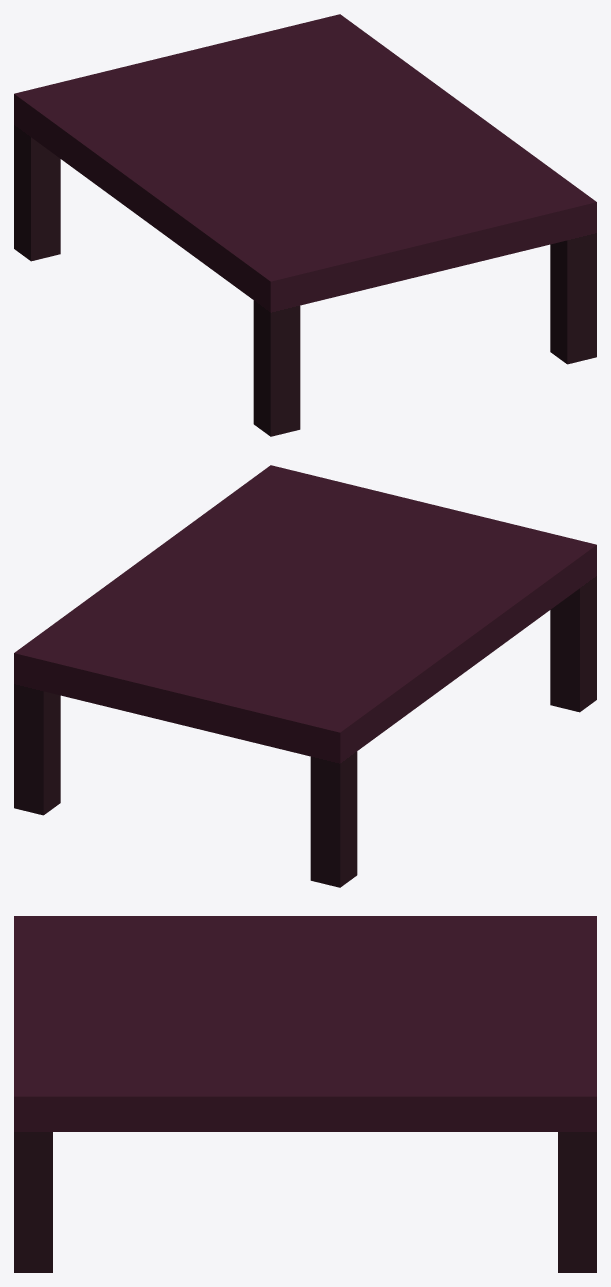
The model's file is endroom_miz.dae.
3 views of the same model, one above another, from view 1: azimuth 30°, elevation 25°; view 2: azimuth 150°, elevation 25°; view 3: azimuth 270°, elevation 25° (orthographic). The views are drawn at different scales.
Visible parts, largest first — view 1: endroom_miz.miz_ending1; view 2: endroom_miz.miz_ending1; view 3: endroom_miz.miz_ending1.
Part boxes in pixels (left/top/right/bottom): endroom_miz.miz_ending1: left=14, top=14, right=596, bottom=436; endroom_miz.miz_ending1: left=14, top=465, right=596, bottom=887; endroom_miz.miz_ending1: left=14, top=916, right=596, bottom=1272.
Bounding box in the file's own units: 1.1 × 1.5 × 0.5.
1 material, 1 textured.
